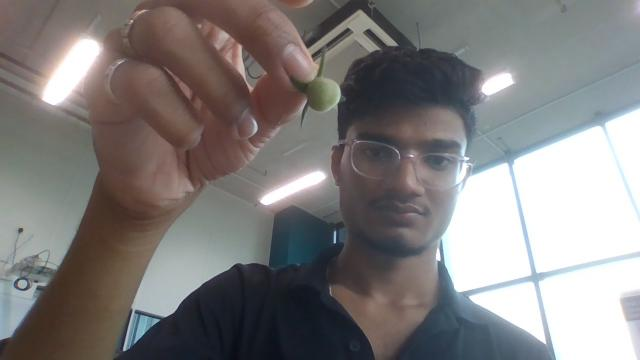Fruit Maturation: (305, 77, 342, 113)
